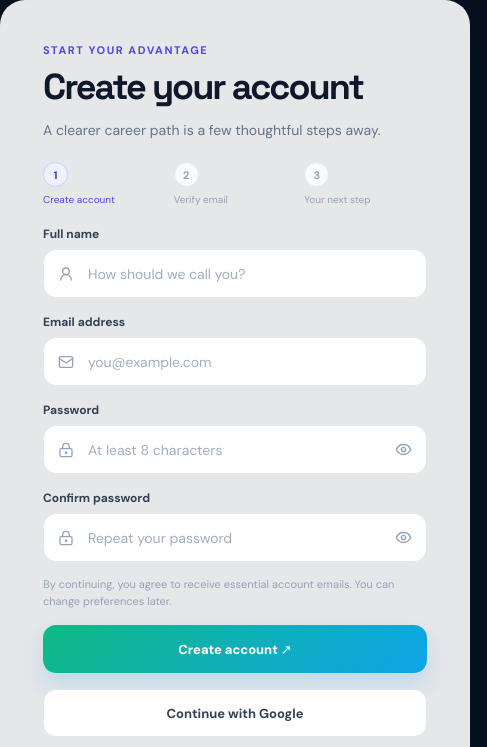
it: SignupPage › stays on signup when verification is not available (false)
In the field labelled "Full name": x=250, y=274 [74, 252, 426, 296], type "Ava Stone"
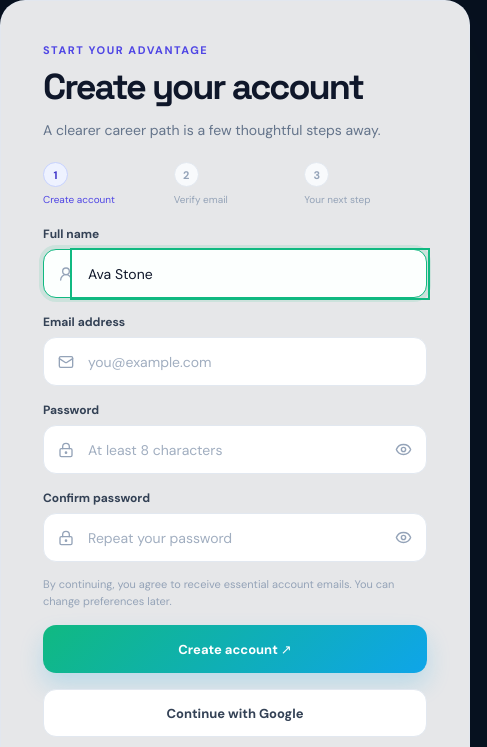
In the field labelled "Email address": x=250, y=362 [74, 340, 426, 384], type "ava@example.com"
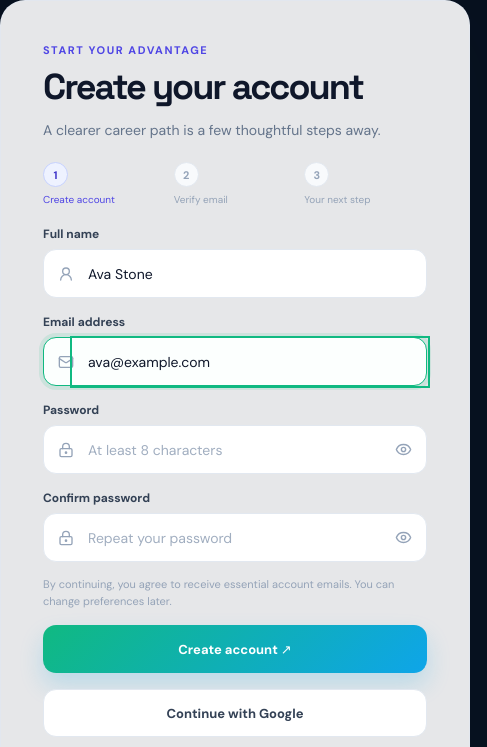
In the password field labelled "Password": x=250, y=450 [74, 428, 426, 472], type "password123"
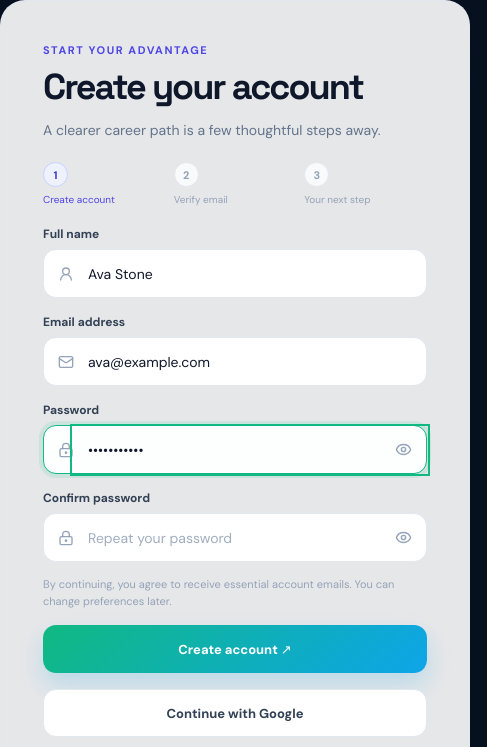
In the password field labelled "Confirm password": x=250, y=538 [74, 516, 426, 560], type "password123"
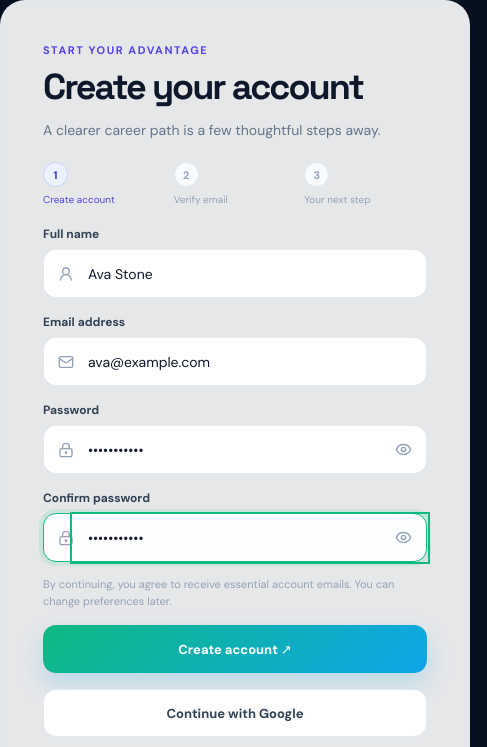
Click the button "Create account ↗": x=235, y=649 [43, 625, 427, 673]
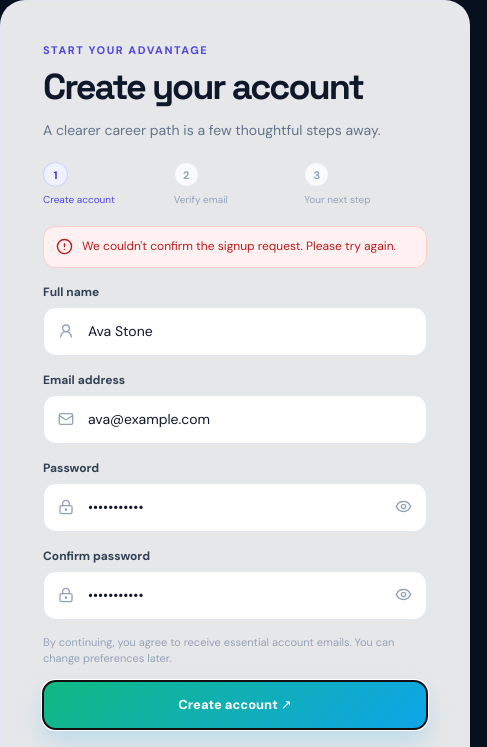
Expected: the message reads "We couldn't confirm the signup request. Please try again.", [82, 238, 396, 254]
